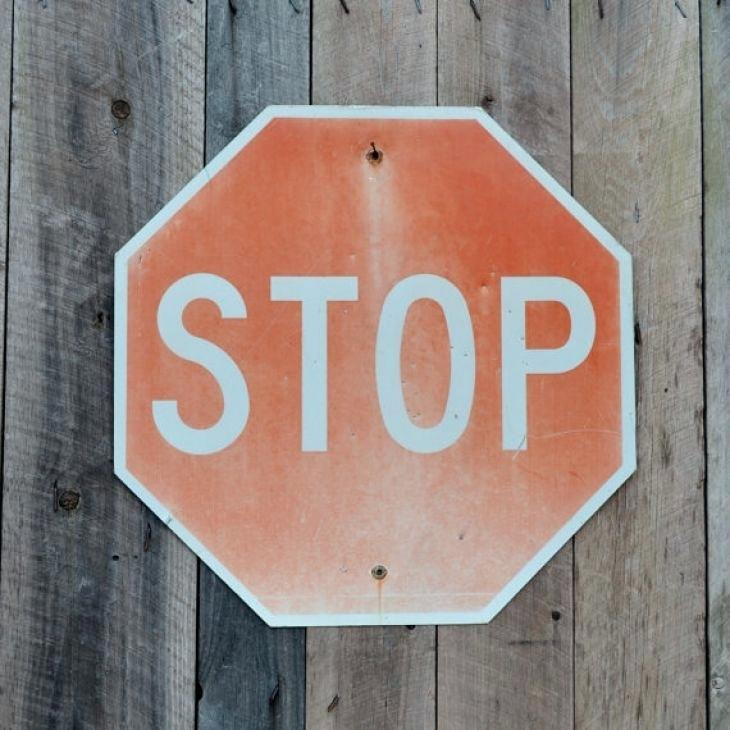stopsign: (113, 101, 634, 625)
